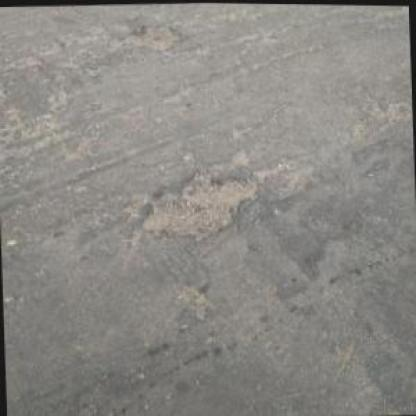pothole: (137, 166, 265, 246), (122, 24, 187, 54)
